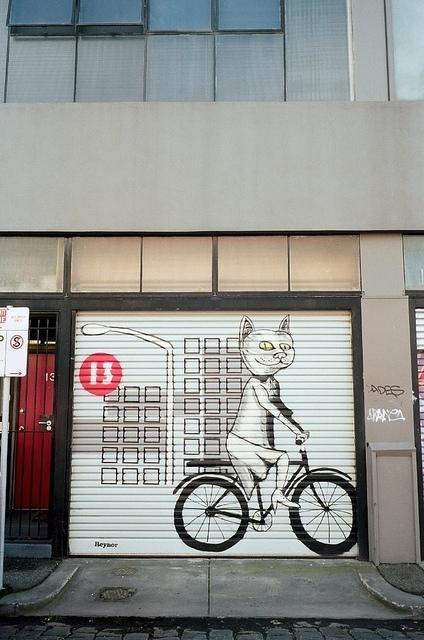bicycle: (172, 438, 358, 556)
